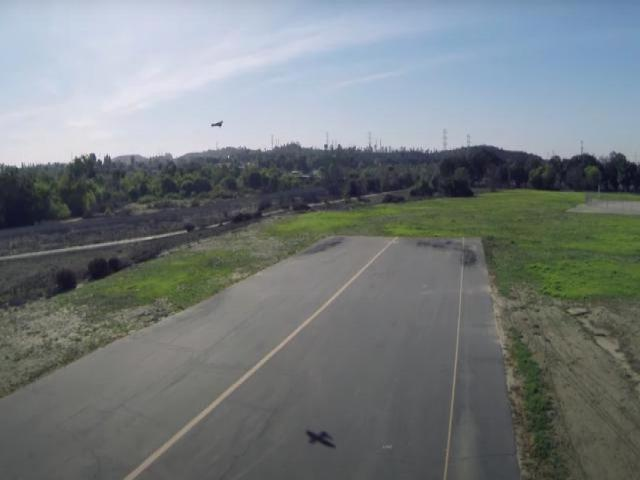iha: (212, 121, 222, 127)
